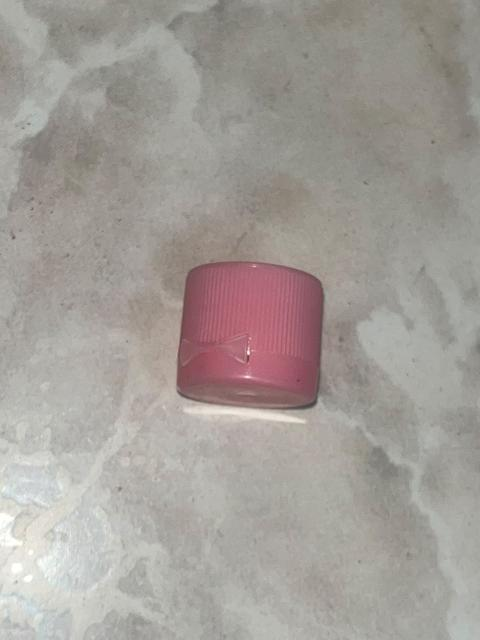HDPE: (132, 215, 375, 453)
